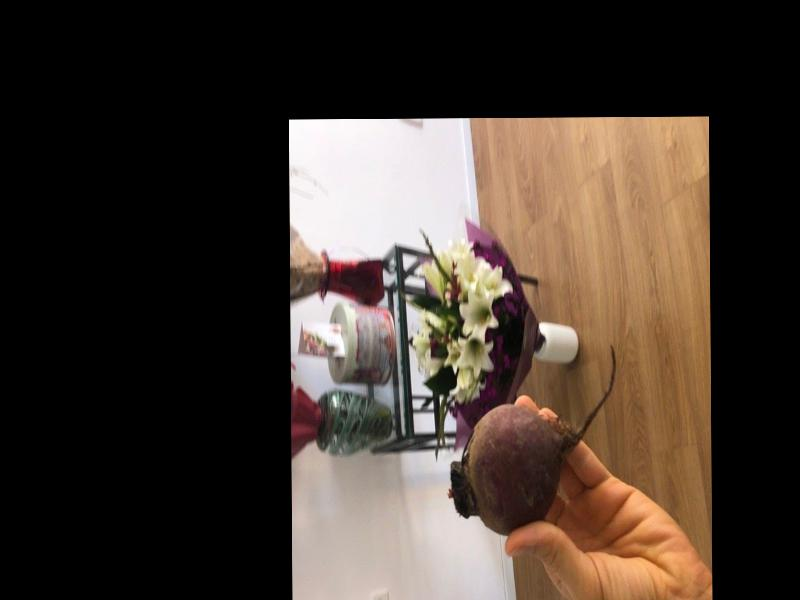Beet: (448, 341, 616, 535)
